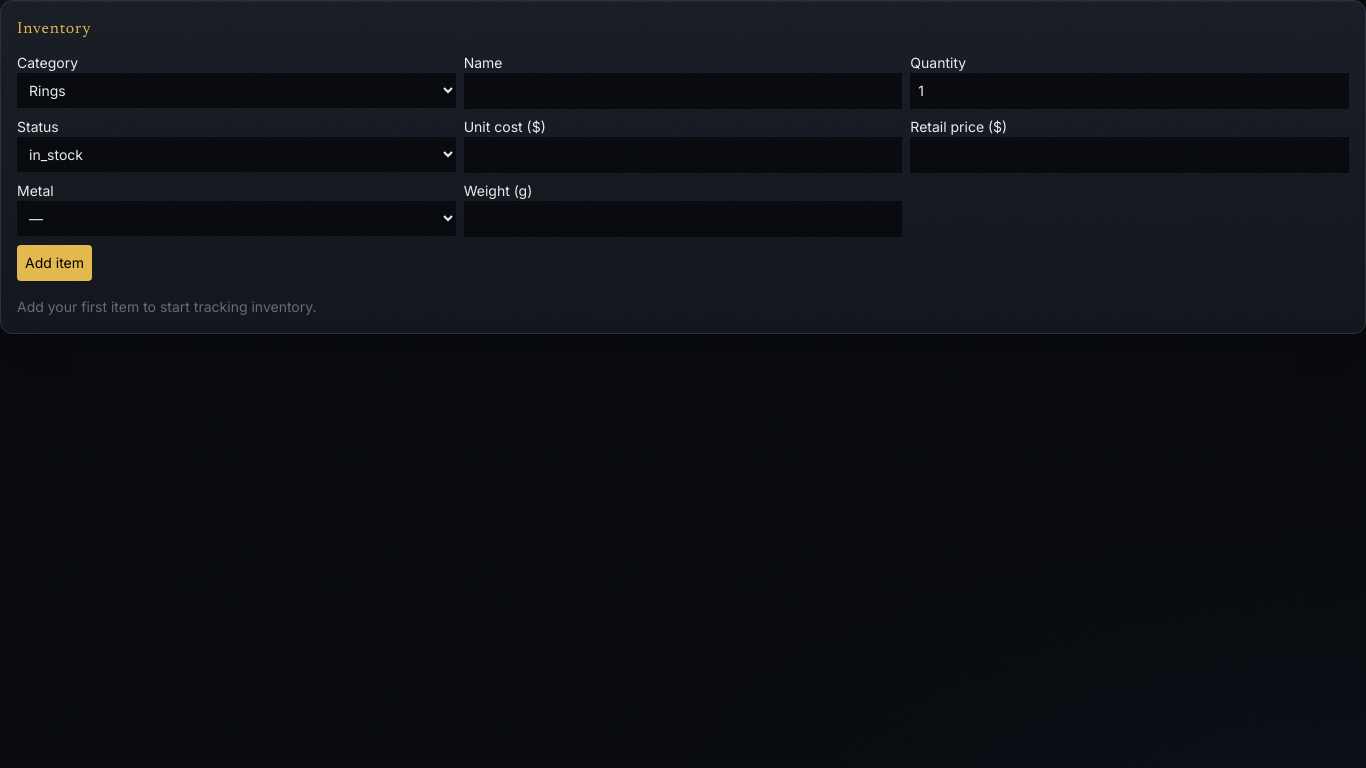
it: surfaces an action error
Click the button "Add item": coordinates (54, 263) [17,245,92,281]
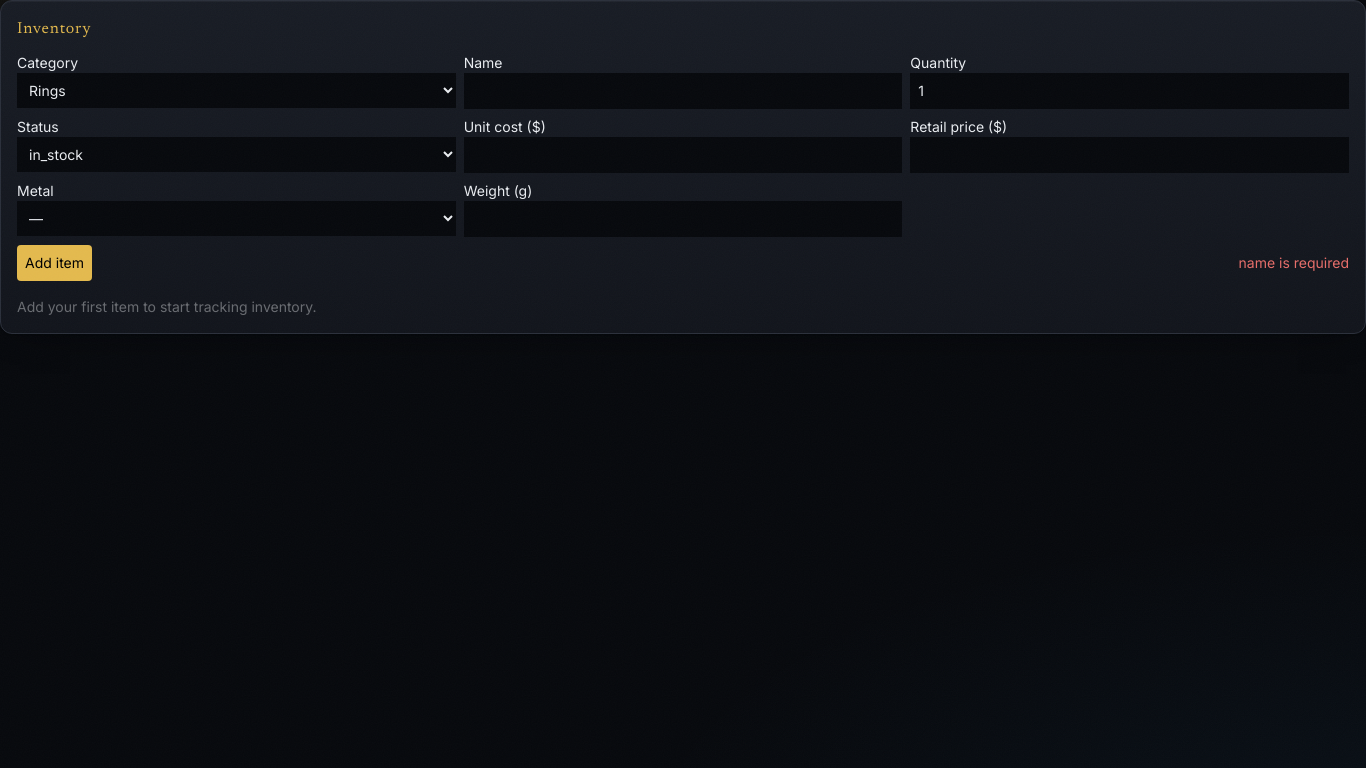
Expected: the message reads "name is required", [1238,254,1349,271]
